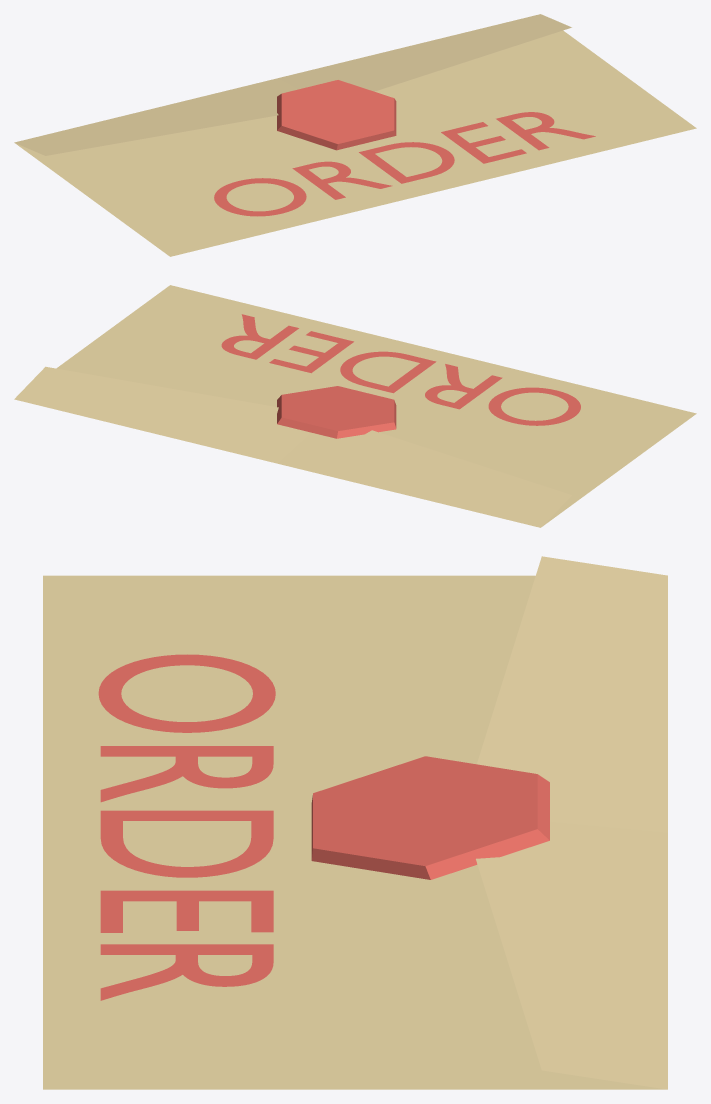
The model's file is order_envelope.glb.
3 views of the same model, one above another, from view 1: azimuth 30°, elevation 25°; view 2: azimuth 150°, elevation 25°; view 3: azimuth 270°, elevation 25° (orthographic). The views are drawn at different scales.
Visible parts, largest first — view 1: Plane; view 2: Plane; view 3: Plane.
Boxes of the visible parts, x1=… form: Plane: x1=14, y1=14, x2=696, y2=256; Plane: x1=14, y1=285, x2=696, y2=527; Plane: x1=43, y1=556, x2=667, y2=1089.
Bounding box in the file's own units: 0.9687 × 0.0273 × 0.4977.
